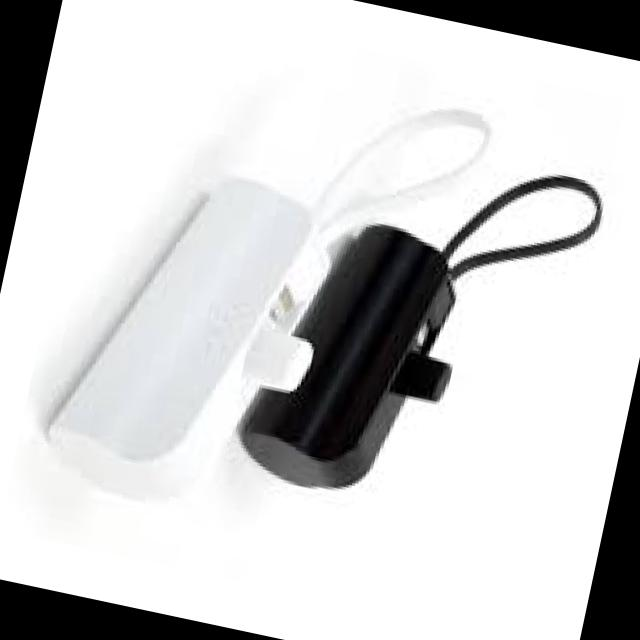power_bank: (29, 145, 346, 530), (220, 202, 481, 516)
